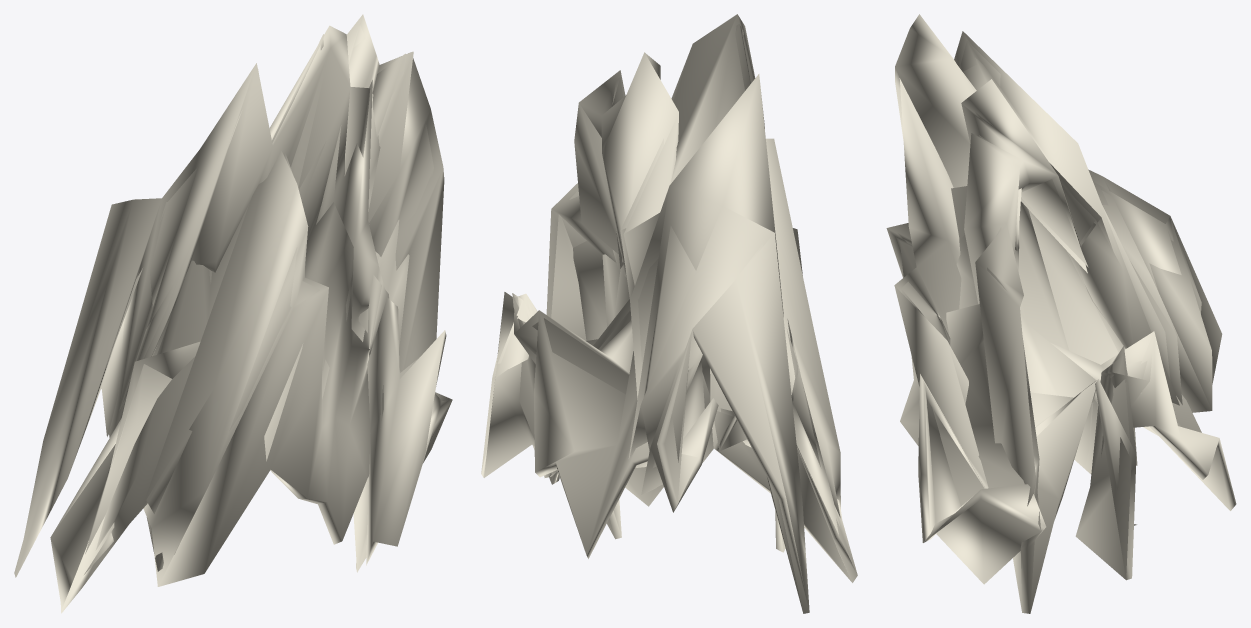
Rendered from animated_sterile_towel_crumple.fbx.
The picture shows the model from 3 angles, left to right: view 1: azimuth 30°, elevation 25°; view 2: azimuth 150°, elevation 25°; view 3: azimuth 270°, elevation 25°; orthographic projection. The views are drawn at different scales.
Visible parts, largest first — view 1: Animated_Sterile_Towel_Crumple; view 2: Animated_Sterile_Towel_Crumple; view 3: Animated_Sterile_Towel_Crumple.
Part boxes in pixels (left/top/right/bottom): Animated_Sterile_Towel_Crumple: left=14, top=14, right=452, bottom=613; Animated_Sterile_Towel_Crumple: left=481, top=14, right=857, bottom=613; Animated_Sterile_Towel_Crumple: left=886, top=14, right=1236, bottom=613.
Size of the model in its own units: 10.19 by 14.75 by 8.33.
